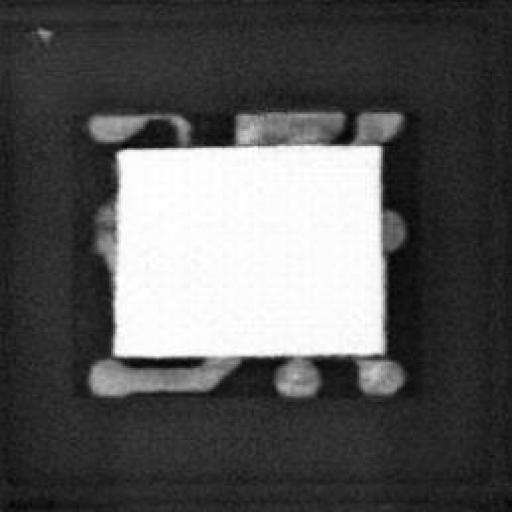DIE_INK: (34, 23, 52, 40)
